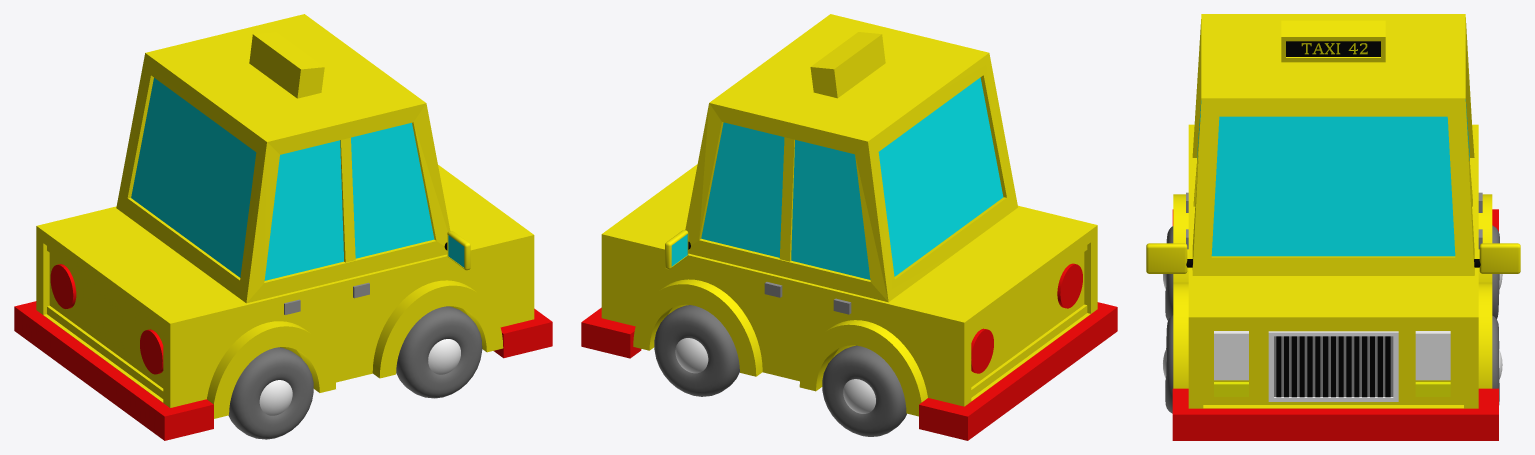
Rendered from Taxi42.fbx.
The picture shows the model from 3 angles, left to right: view 1: azimuth 30°, elevation 25°; view 2: azimuth 150°, elevation 25°; view 3: azimuth 270°, elevation 25°; orthographic projection. The views are drawn at different scales.
Parts seen in each view (by area): view 1: taxi 42; view 2: taxi 42; view 3: taxi 42.
Boxes of the visible parts, left/top/right/bottom form: taxi 42: left=14, top=14, right=552, bottom=440; taxi 42: left=581, top=14, right=1117, bottom=440; taxi 42: left=1146, top=14, right=1520, bottom=440.
Size of the model in its own units: 496 by 386 by 383.
